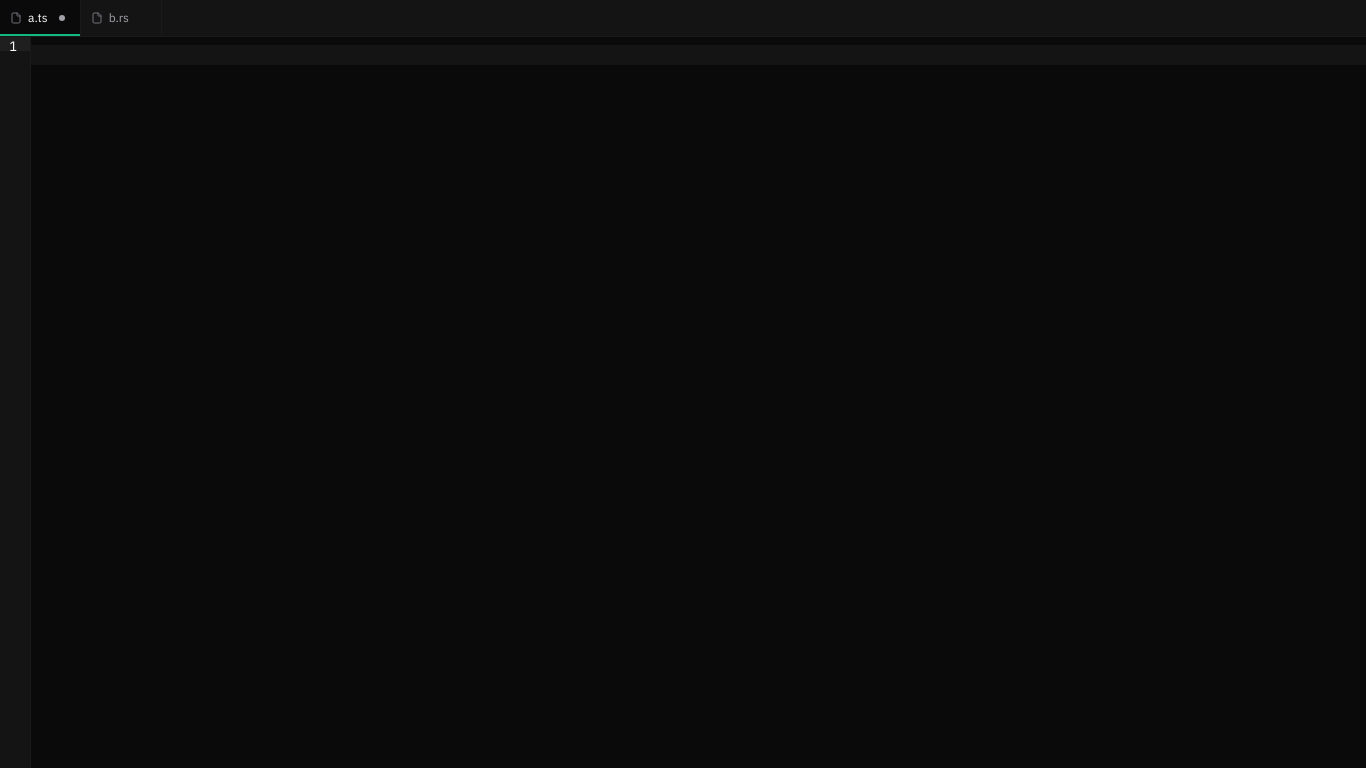
Test: FilePreviewWorkspace › HR4-6：右键 '全部关闭' 含 dirty → 弹保存对话框（逐个）
The image size is (1366, 768).
Right-click the tab with test id "file-tab-/x/a.ts": [40, 18] box [0, 0, 81, 36]
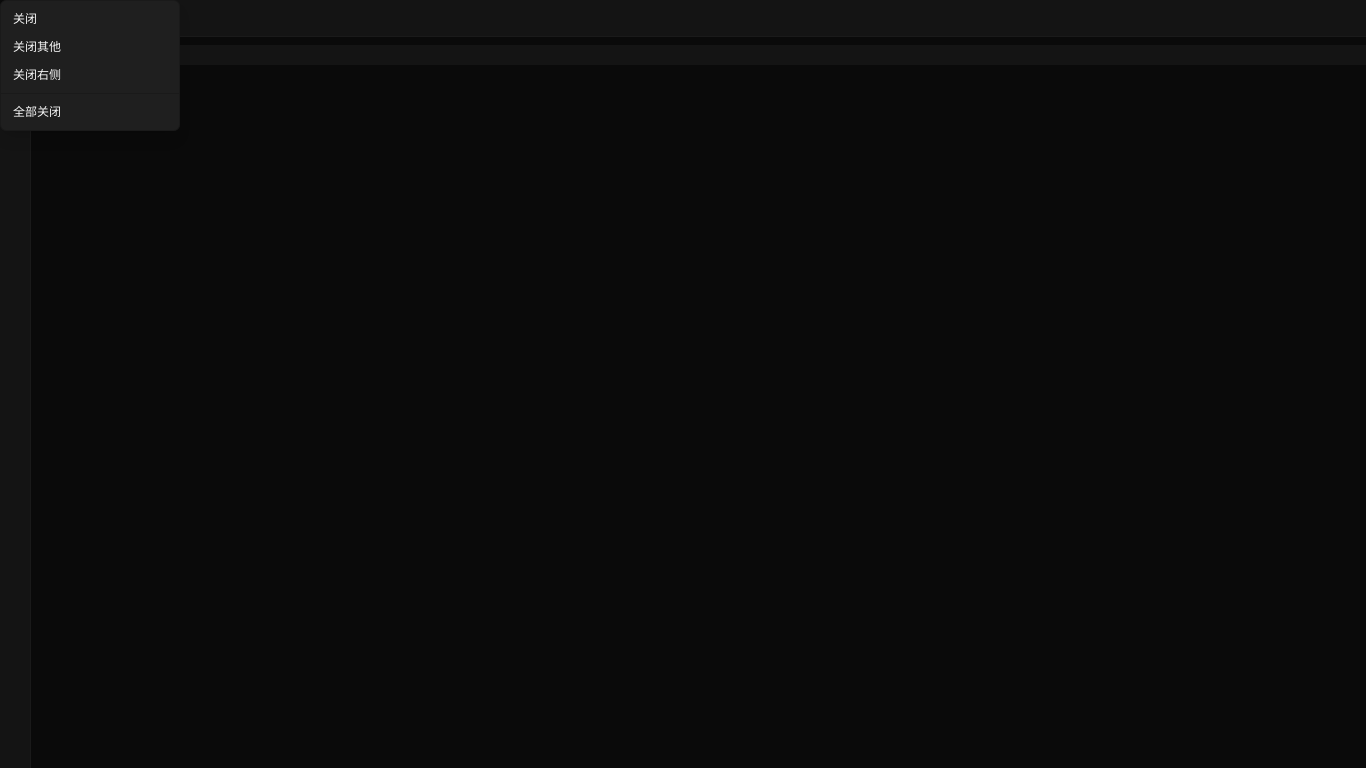
Click the menu item with test id "file-tab-ctx-close-all": [90, 112] box [1, 98, 179, 126]
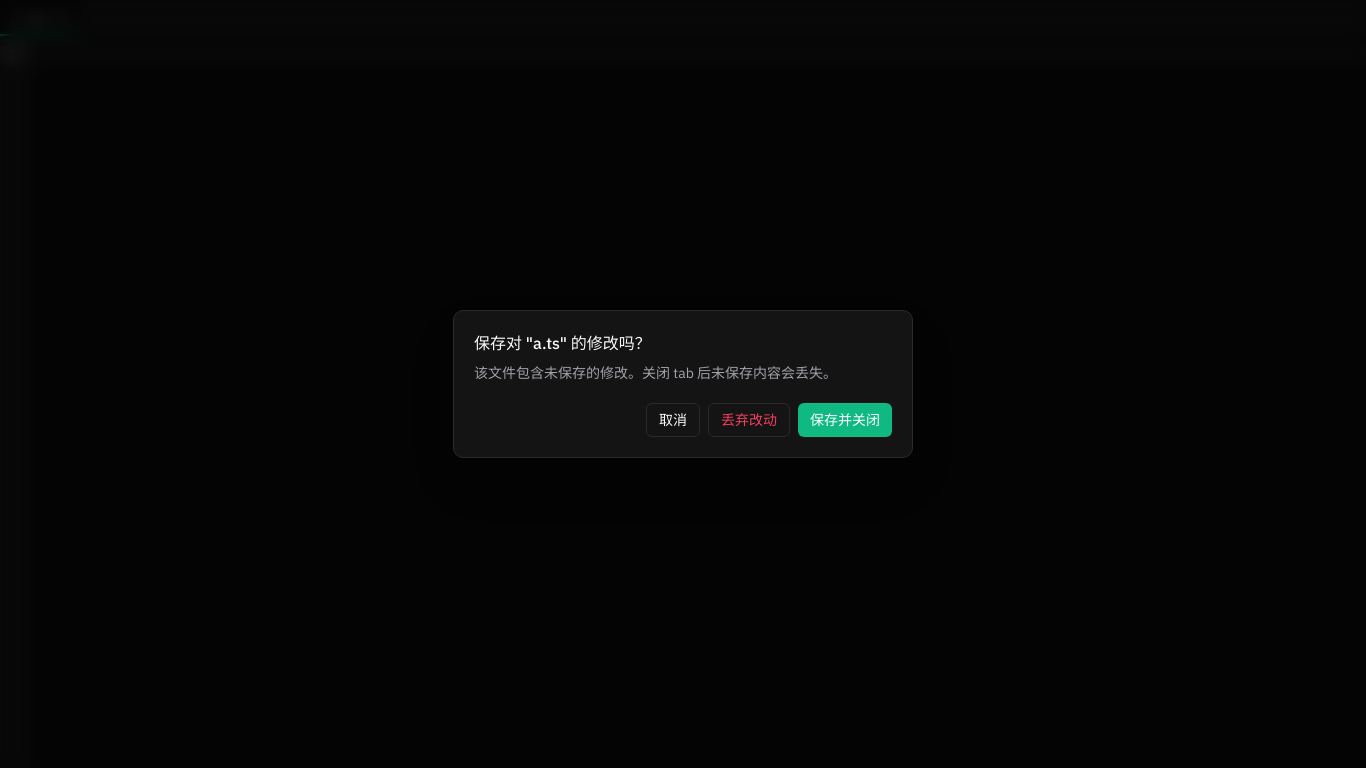
expect the dialog with test id "close-file-confirm-dialog" is shown: met, box [453, 310, 913, 458]
